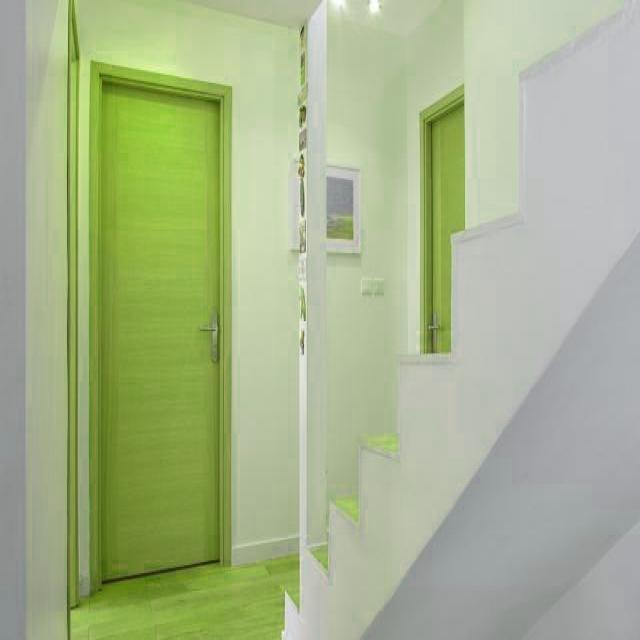door: (87, 62, 230, 585)
